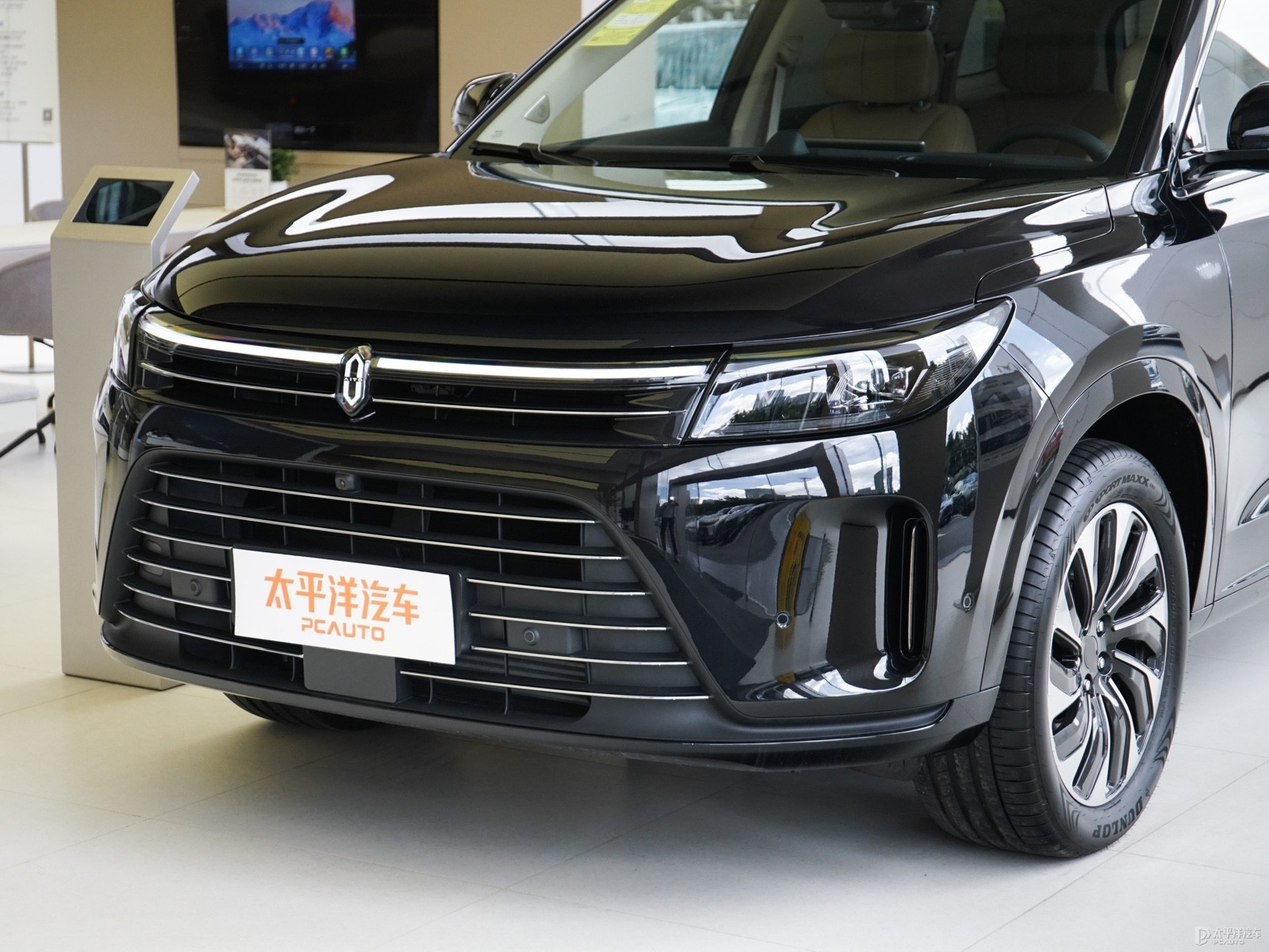AITO: (343, 354, 363, 405)
